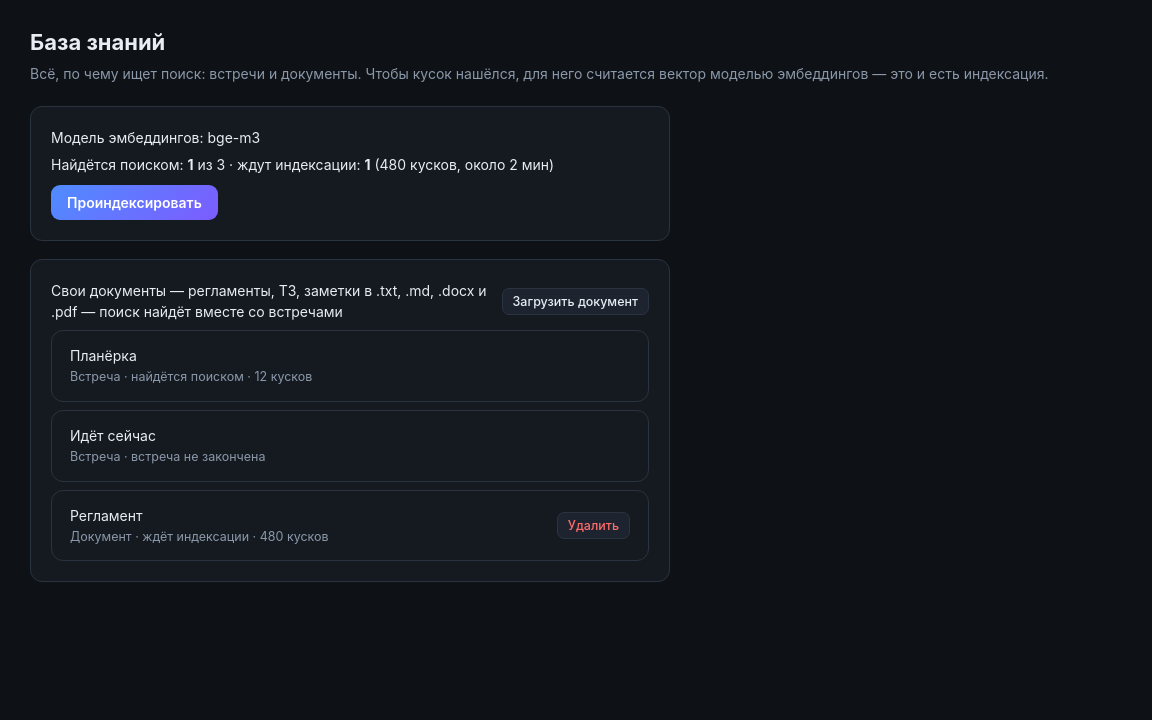
Test case: экран базы знаний › сообщение модели без точки не склеивается с припиской
The image size is (1152, 720).
Click the button "Проиндексировать".
click(134, 202)  # box [51, 185, 218, 220]
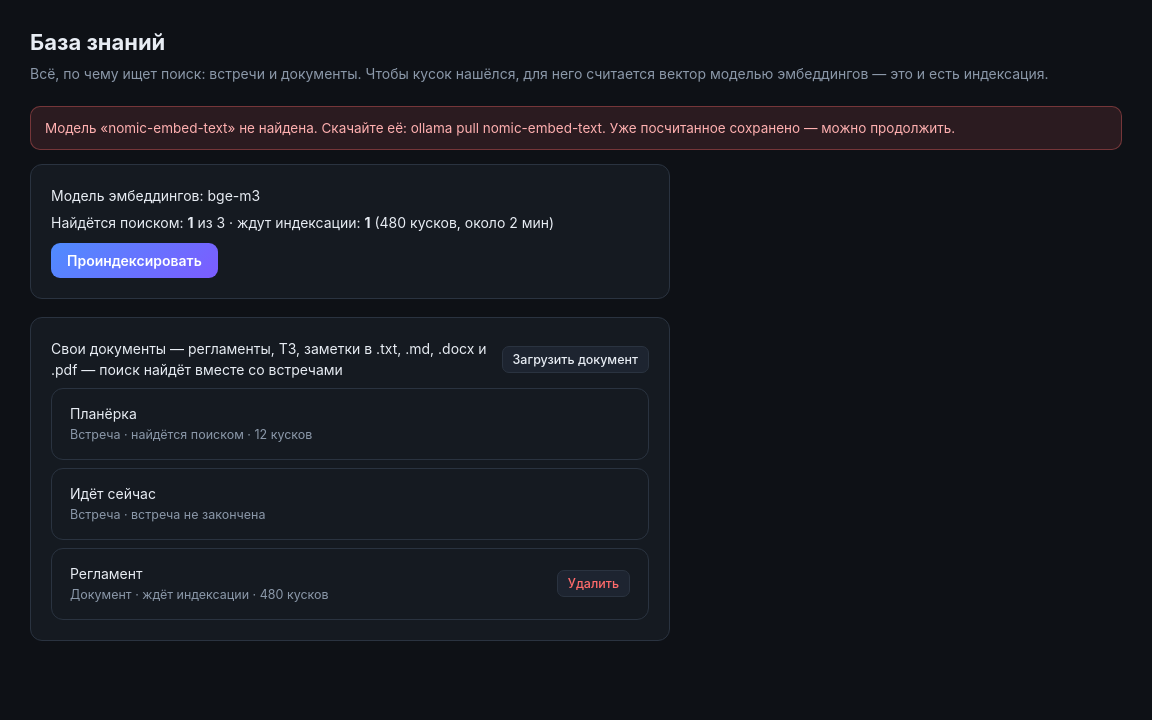
Expected: the text with class "error" shows "Модель «nomic-embed-text» не найдена. Скачайте её: ollama pull nomic-embed-text. Уже посчитанное сохранено — можно продолжить.", [45, 120, 955, 136]
